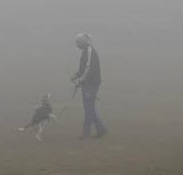person: (68, 32, 110, 140)
